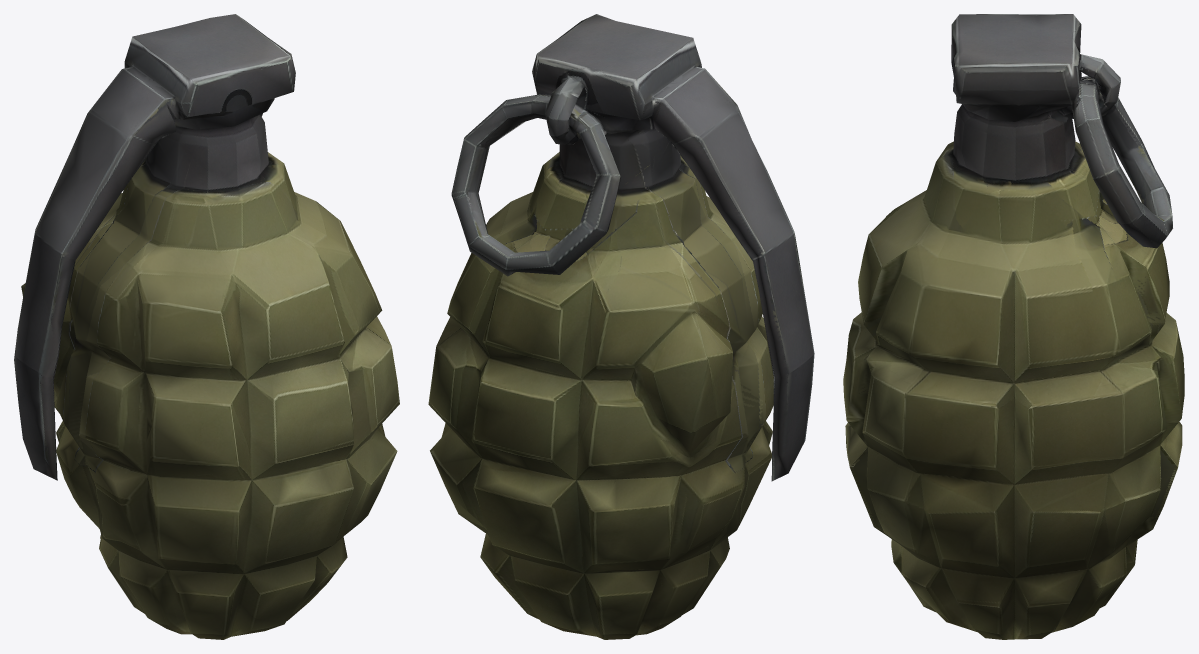
Rendered from Grenade.fbx.
3 views of the same model, side by side, from view 1: azimuth 30°, elevation 25°; view 2: azimuth 150°, elevation 25°; view 3: azimuth 270°, elevation 25° (orthographic).
Parts seen in each view (by area): view 1: texture_mapping; view 2: texture_mapping; view 3: texture_mapping.
Boxes of the visible parts, bbox=[...] form: texture_mapping: bbox=[14, 14, 399, 639]; texture_mapping: bbox=[428, 14, 814, 639]; texture_mapping: bbox=[843, 14, 1184, 639].
Size of the model in its own units: 0.6359 by 0.5421 by 1.
Materials: 1 (1 with a texture image).
